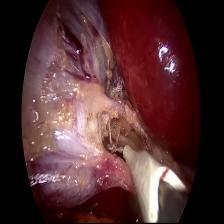Hook: (110, 129, 188, 224)
